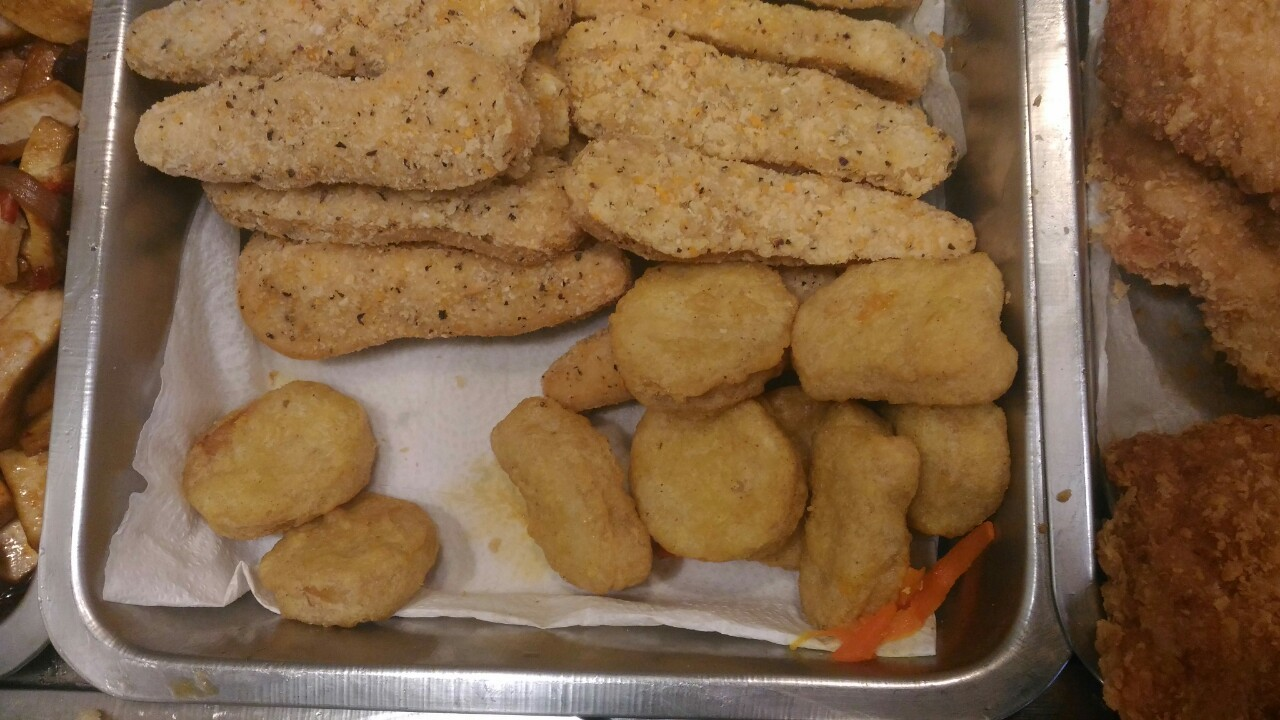chicken_nuggets: (499, 270, 1009, 651), (181, 377, 450, 633)
